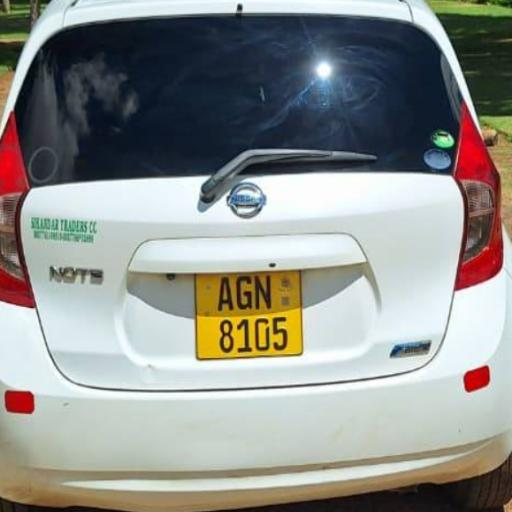number-plates: (195, 270, 300, 351)
